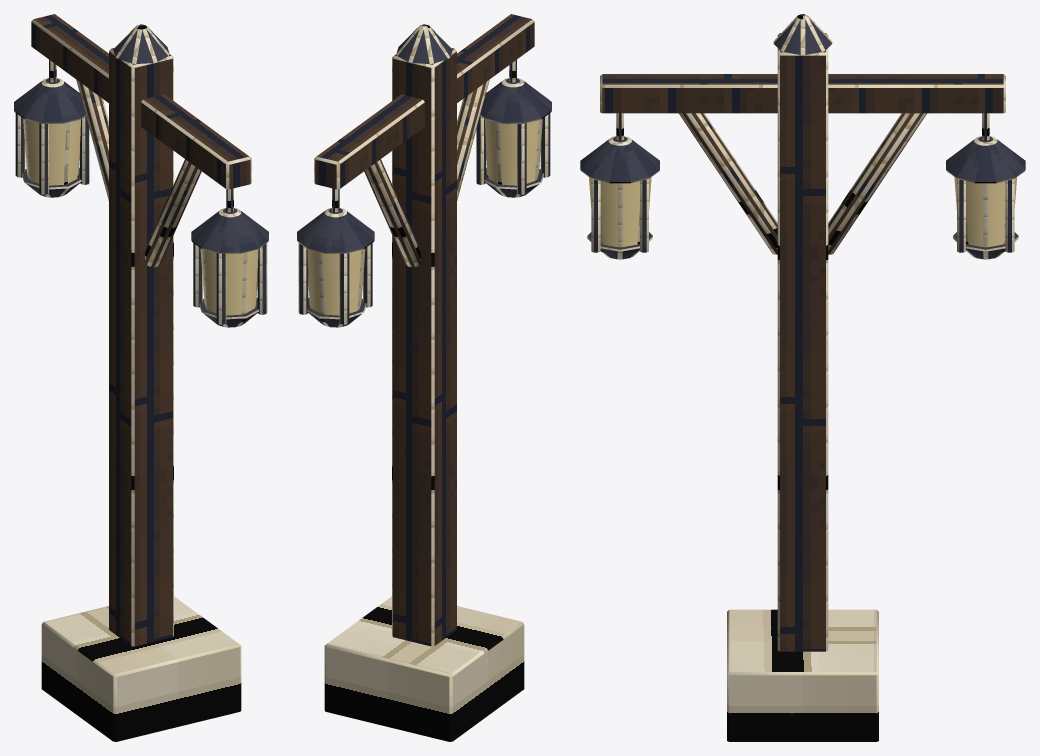
Rendered from lantern_post_2.glb.
3 views of the same model, side by side, from view 1: azimuth 30°, elevation 25°; view 2: azimuth 150°, elevation 25°; view 3: azimuth 270°, elevation 25° (orthographic). The views are drawn at different scales.
Parts seen in each view (by area): view 1: lantern_post_3; view 2: lantern_post_3; view 3: lantern_post_3.
Part boxes in pixels (x1=…): lantern_post_3: x1=14, y1=14, x2=268, y2=741; lantern_post_3: x1=297, y1=14, x2=551, y2=741; lantern_post_3: x1=580, y1=14, x2=1025, y2=741.
Size of the model in its own units: 0.6 by 3.02 by 1.75.
Materials: 4 (4 with a texture image).
